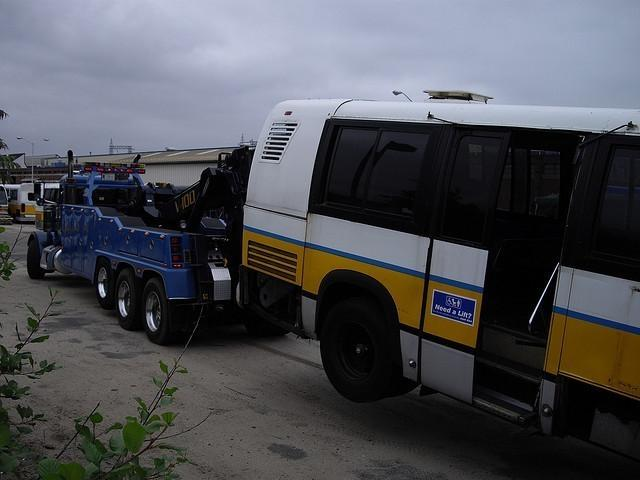bus: (235, 90, 640, 466), (2, 182, 36, 223)
truck: (27, 144, 303, 350)
